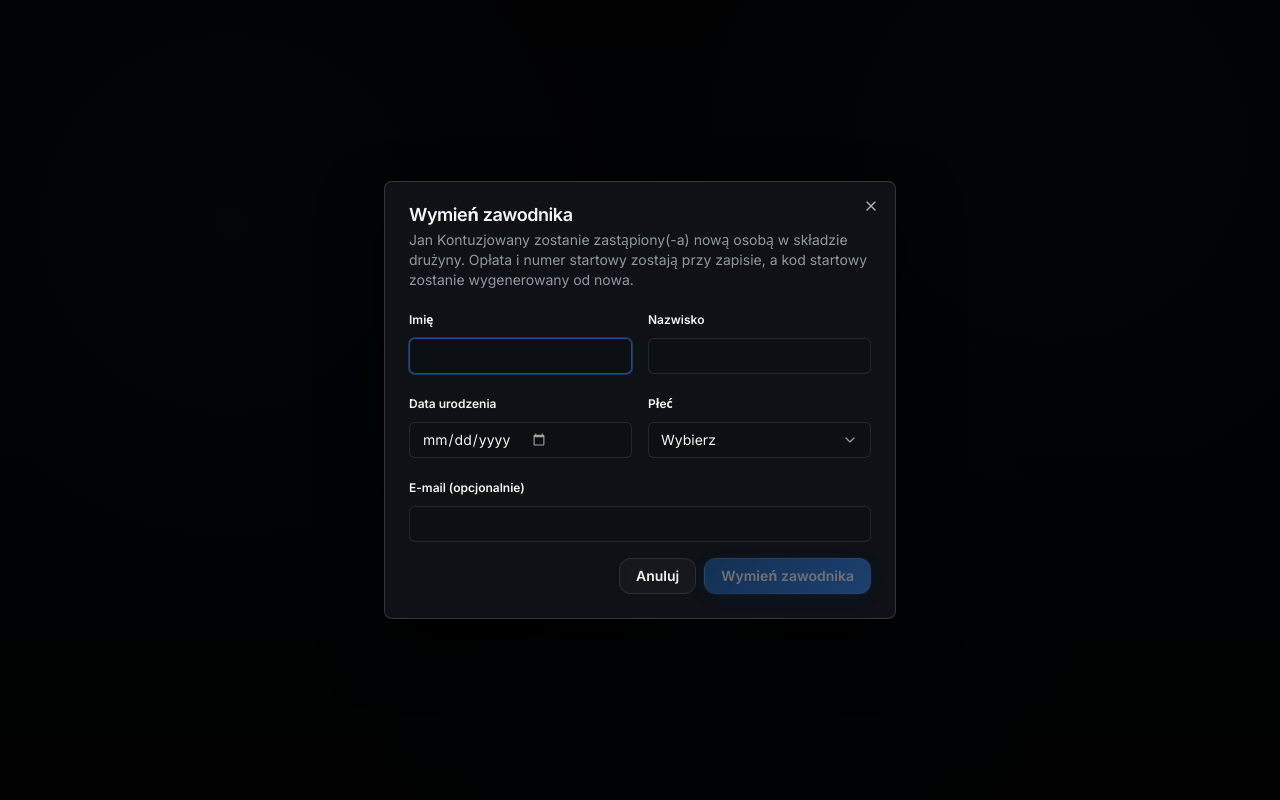
Scenario: SwapTeamMemberDialog › keeps the submit button disabled until first and last name are filled
This screenshot has width=1280, height=800.
Expected: the button "Wymień zawodnika" is disabled, [704,558,871,594]
Type "Ola" into the field labelled "Imię" at (520, 356), box [409,338,632,374]
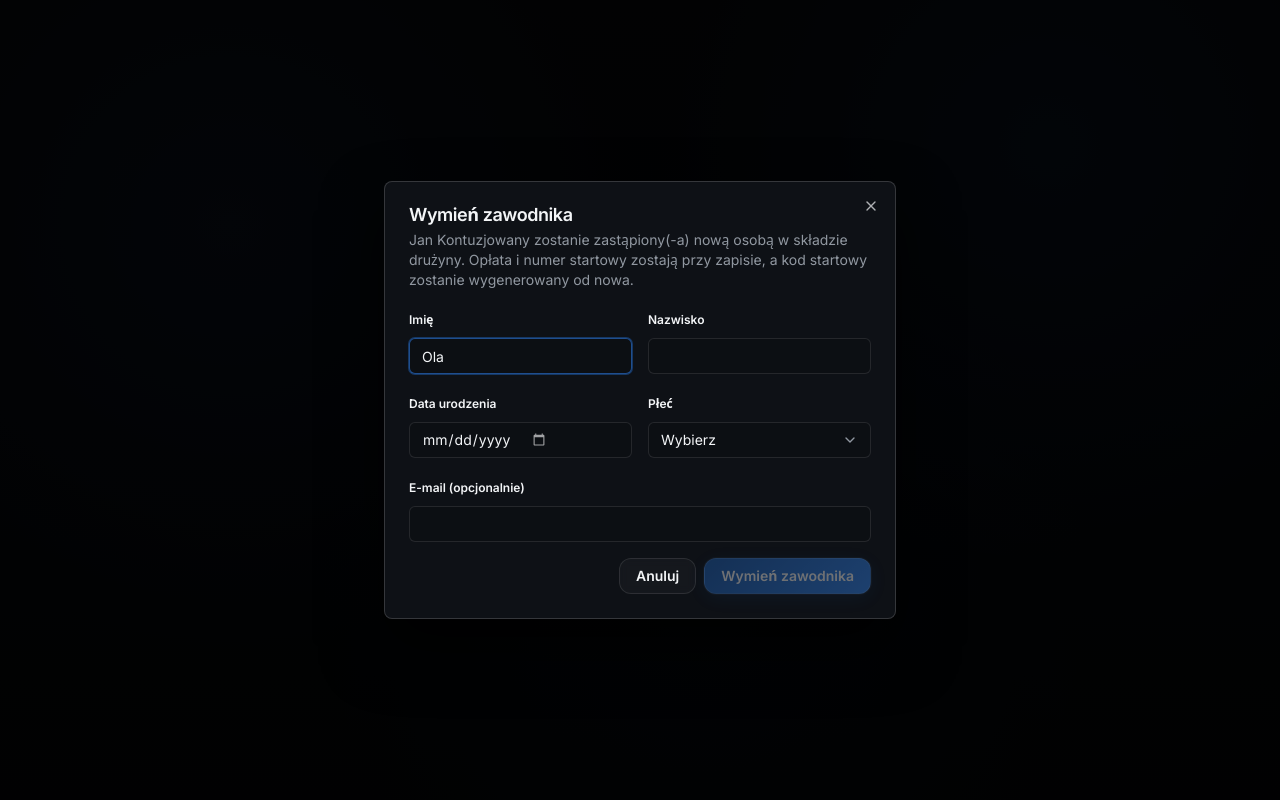
Expected: the button "Wymień zawodnika" is disabled, [704,558,871,594]
Type "Nowak" into the field labelled "Nazwisko" at (760, 356), box [648,338,871,374]
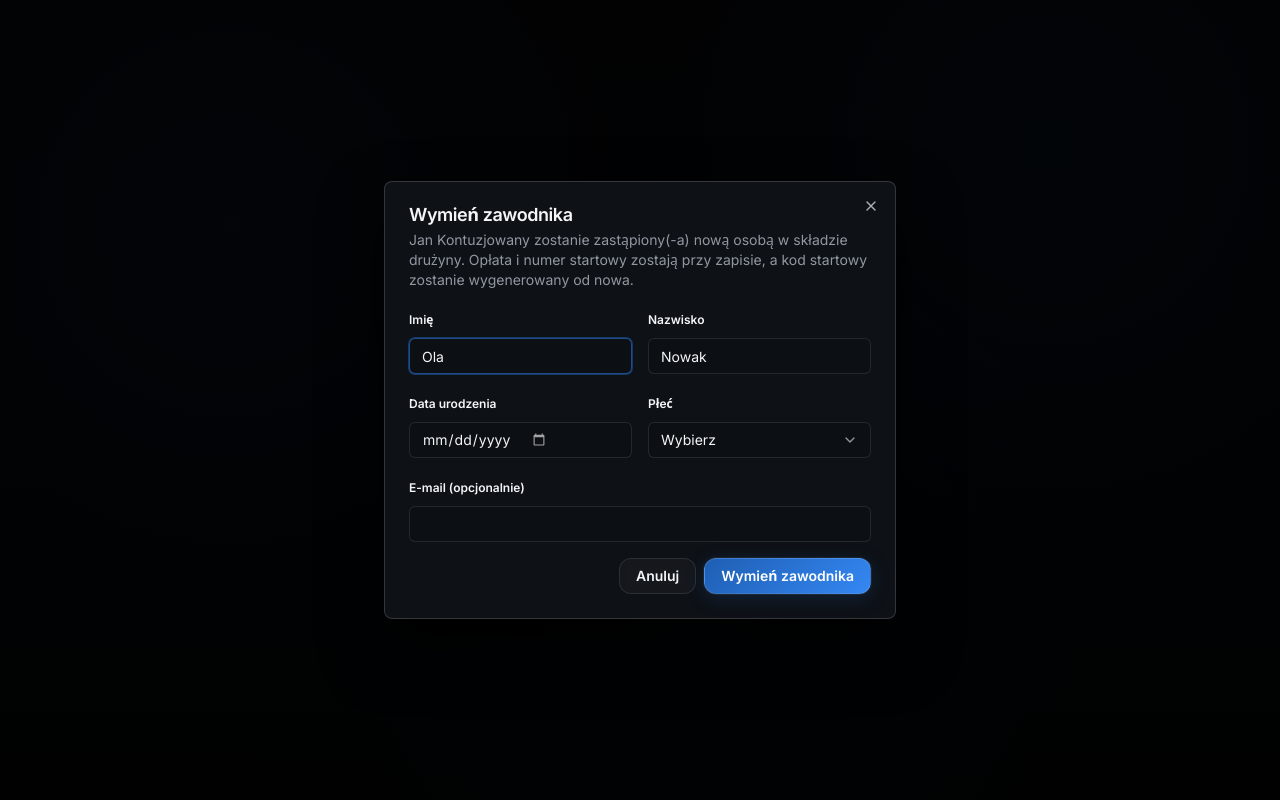
Expected: the button "Wymień zawodnika" is enabled, [704,558,871,594]
